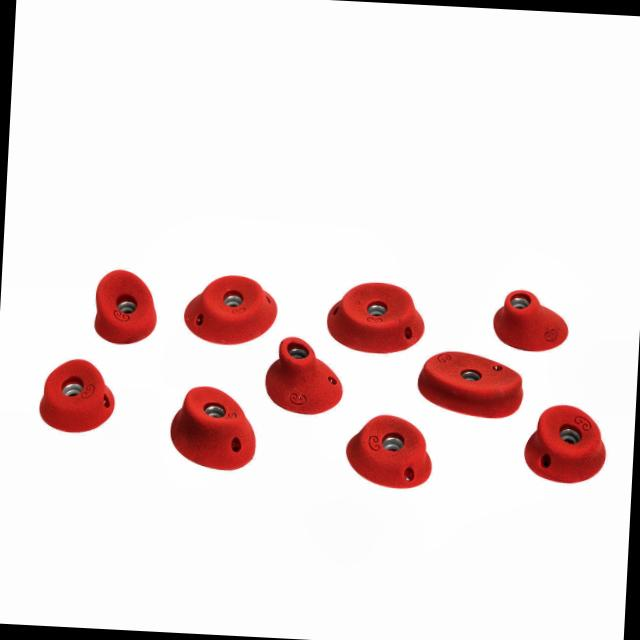Hold: (168, 382, 258, 472), (324, 278, 425, 356), (412, 349, 526, 418), (182, 270, 280, 346), (524, 403, 611, 487), (342, 414, 436, 489), (262, 335, 346, 415), (36, 358, 118, 436), (90, 268, 160, 348), (491, 289, 573, 352)
